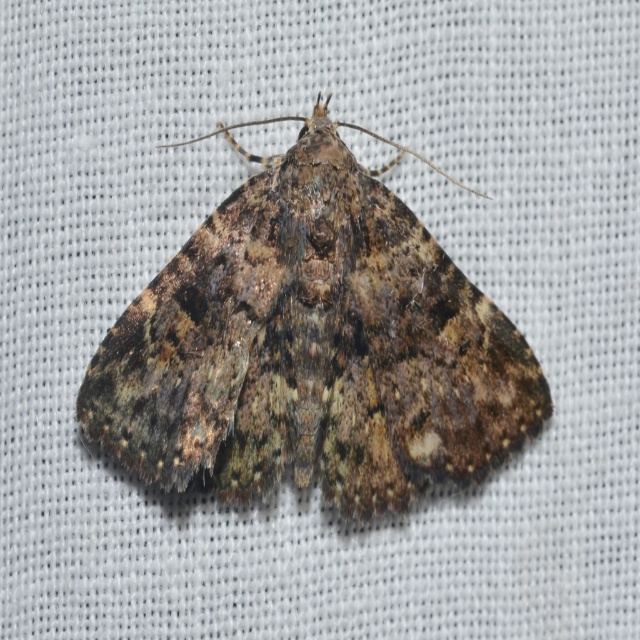Moths and butterflies: (76, 91, 556, 526)
